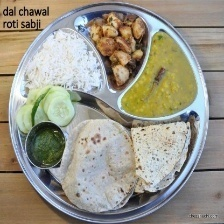rice: (16, 25, 108, 97)
